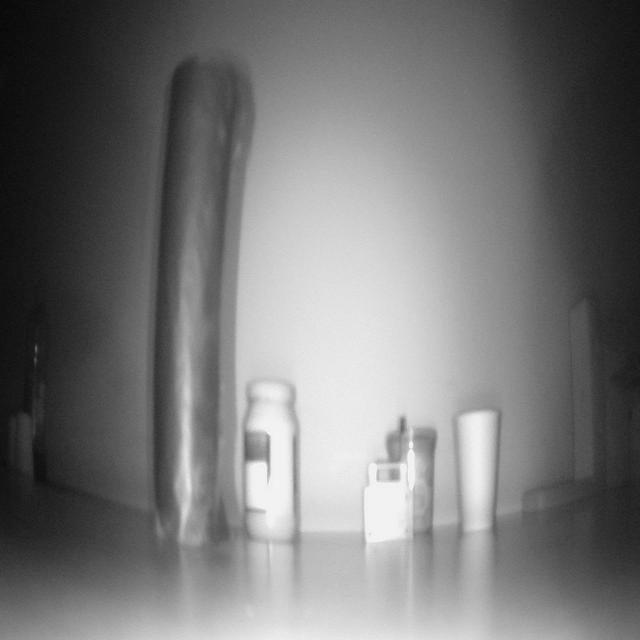targets: (152, 59, 238, 544), (520, 296, 610, 518), (242, 382, 301, 545), (389, 422, 439, 541), (458, 406, 500, 530), (25, 278, 50, 480), (362, 455, 412, 556), (6, 412, 34, 478)
